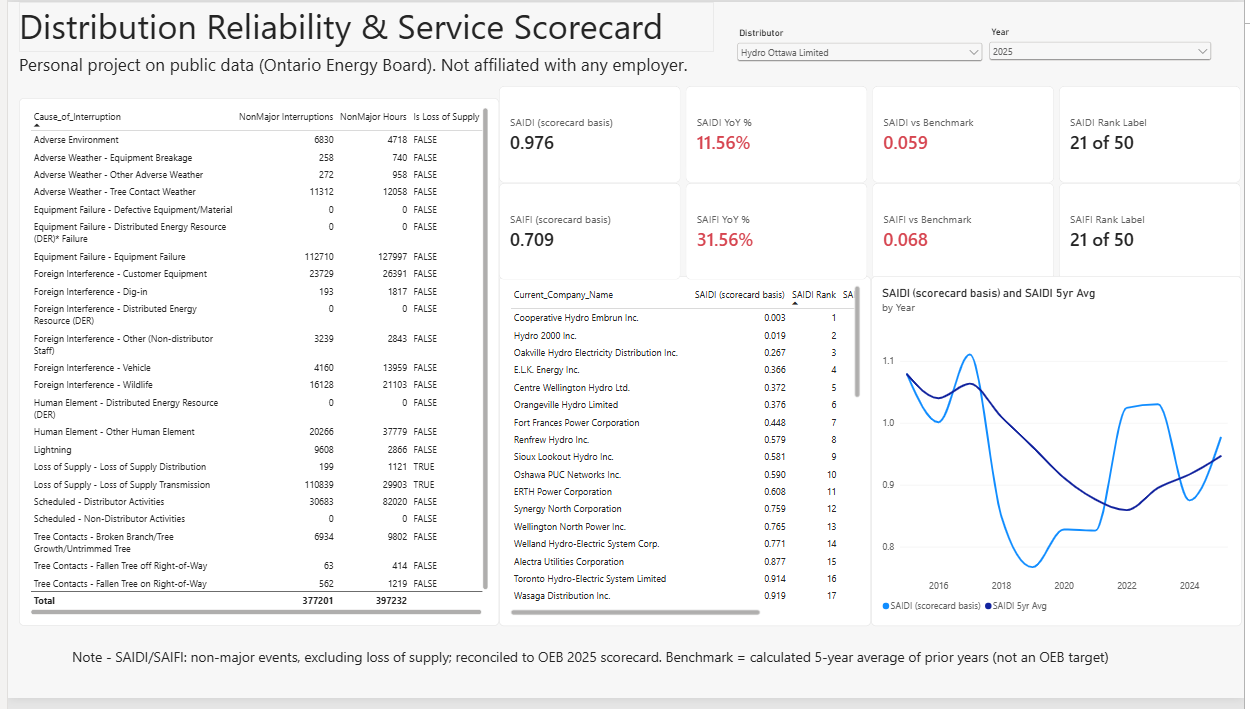

What the dashboard file says about the page in this screenshot:
{"tool":"powerbi","page":{"name":"Executive Scorecard","canvas":[1920,1080],"ordinal":0},"visuals":[{"type":"slicer","fields":{"Values":["dim_distributor.Current_Company_Name"]},"box":[1127.8,40.4,391,72.9],"z":0},{"type":"slicer","fields":{"Values":["dim_year.Year"]},"box":[1519.2,38.8,354.5,72.9],"z":1000},{"type":"tableEx","fields":{"Values":["fact_reliability.Cause_of_Interruption","fact_reliability.NonMajor Interruptions","fact_reliability.NonMajor Hours","fact_reliability.Is Loss of Supply"]},"box":[17.1,149.1,745.6,820.2],"z":2000},{"type":"tableEx","fields":{"Values":["dim_distributor.Current_Company_Name","fact_reliability.SAIDI (scorecard basis)","fact_reliability.SAIDI Rank","fact_reliability.SAIFI (scorecard basis)","fact_reliability.SAIFI Rank"]},"box":[762.7,425.6,577.9,543.7],"z":3000},{"type":"textbox","box":[17.1,0,1079.6,77.7],"z":4000},{"type":"textbox","box":[17.1,77.7,1064.1,52.8],"z":5000},{"type":"cardVisual","fields":{"Data":["fact_reliability.SAIDI (scorecard basis)","fact_reliability.SAIDI YoY %","fact_reliability.SAIDI vs Benchmark","fact_reliability.SAIDI Rank Label"]},"box":[762.7,130.5,1154.2,150.7],"z":6000},{"type":"cardVisual","fields":{"Data":["fact_reliability.SAIFI (scorecard basis)","fact_reliability.SAIFI YoY %","fact_reliability.SAIFI vs Benchmark","fact_reliability.SAIFI Rank Label"]},"box":[762.7,281.2,1154.2,150.7],"z":7000},{"type":"lineChart","fields":{"Category":["dim_year.Year"],"Y":["fact_reliability.SAIDI (scorecard basis)","fact_reliability.SAIDI 5yr Avg"]},"box":[1340.6,431.8,576.3,537.5],"z":8000},{"type":"textbox","box":[99.4,1001.9,1687,77.7],"z":8001}]}

Visuals, with their boxes in screenshot pixels (x1, y1, x2, y2), scaled from the page's 1920x1080 canvas onto the 1250x709 screenshot:
slicer - dim_distributor.Current_Company_Name: locate(734, 27, 989, 74)
slicer - dim_year.Year: locate(989, 25, 1220, 73)
tableEx - fact_reliability.Cause_of_Interruption x fact_reliability.NonMajor Interruptions: locate(11, 98, 497, 636)
tableEx - dim_distributor.Current_Company_Name x fact_reliability.SAIDI (scorecard basis): locate(497, 279, 873, 636)
textbox: locate(11, 0, 714, 51)
textbox: locate(11, 51, 704, 86)
cardVisual - fact_reliability.SAIDI (scorecard basis) x fact_reliability.SAIDI YoY %: locate(497, 86, 1248, 185)
cardVisual - fact_reliability.SAIFI (scorecard basis) x fact_reliability.SAIFI YoY %: locate(497, 185, 1248, 284)
lineChart - dim_year.Year x fact_reliability.SAIDI (scorecard basis): locate(873, 283, 1248, 636)
textbox: locate(65, 658, 1163, 708)
